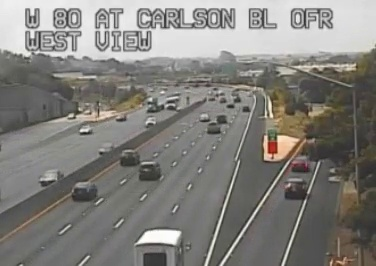car: (283, 179, 305, 200), (71, 182, 96, 200), (138, 162, 159, 180), (120, 150, 138, 166)
